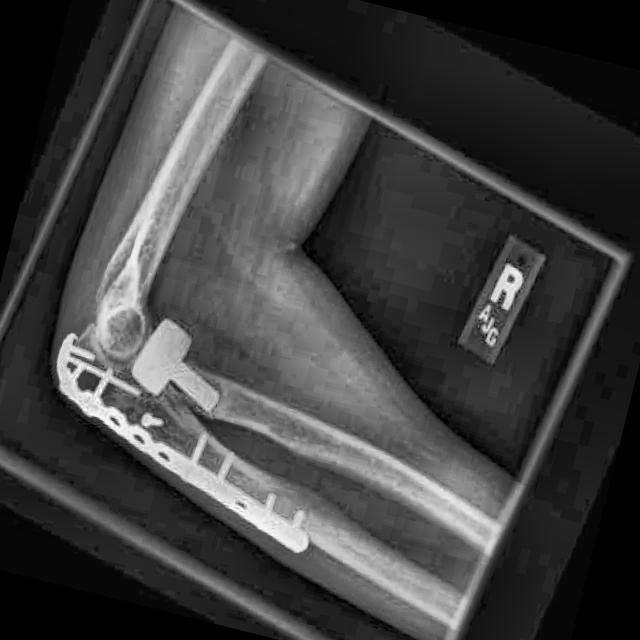elbow positive: (158, 340, 219, 411), (102, 380, 147, 443)
